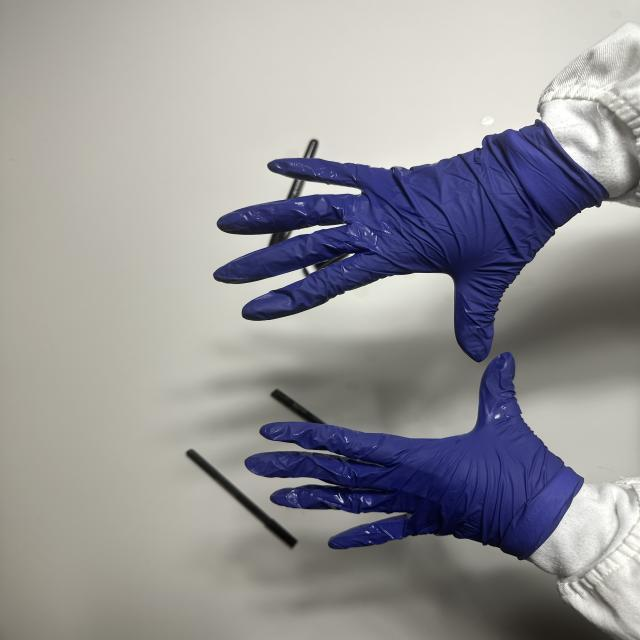gloves_contaminated: (214, 124, 604, 362), (246, 353, 584, 559)
